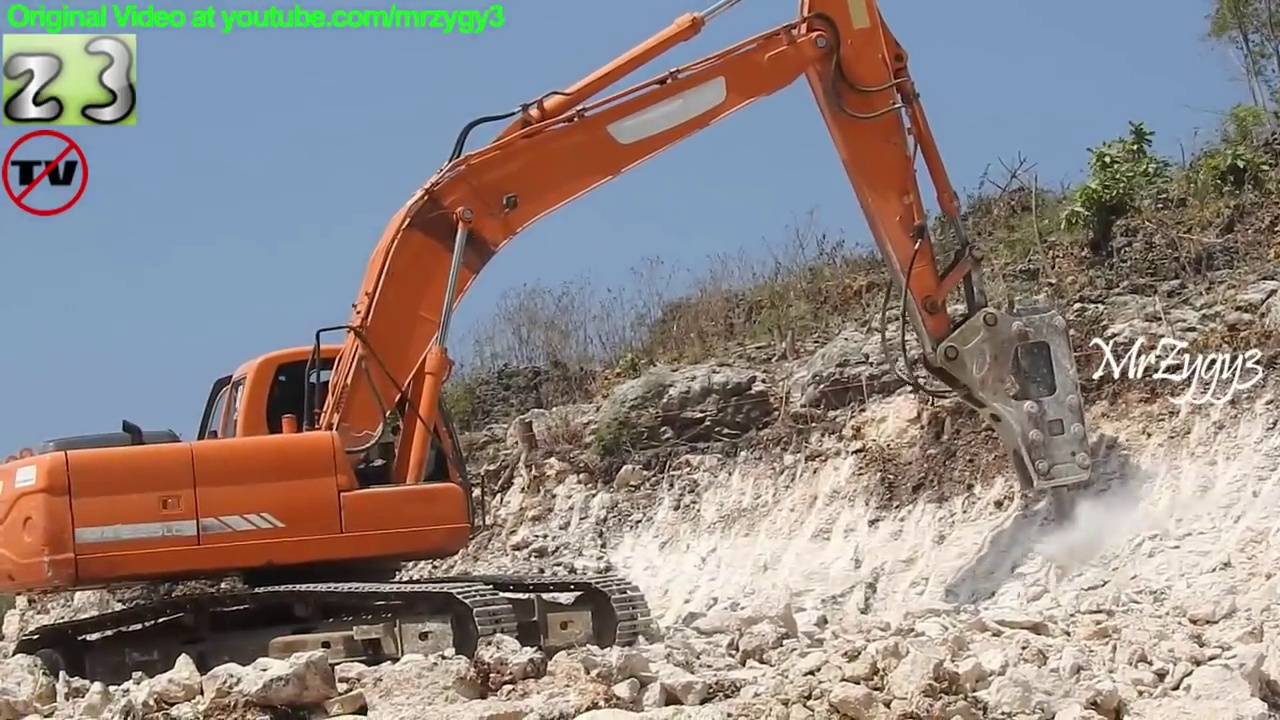excavator breaker: (1, 1, 1106, 712)
